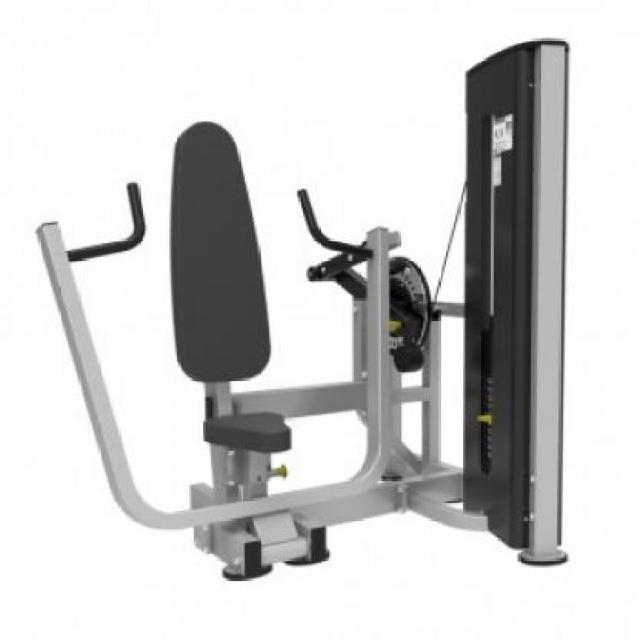Chest Press machine: (34, 32, 589, 594)
